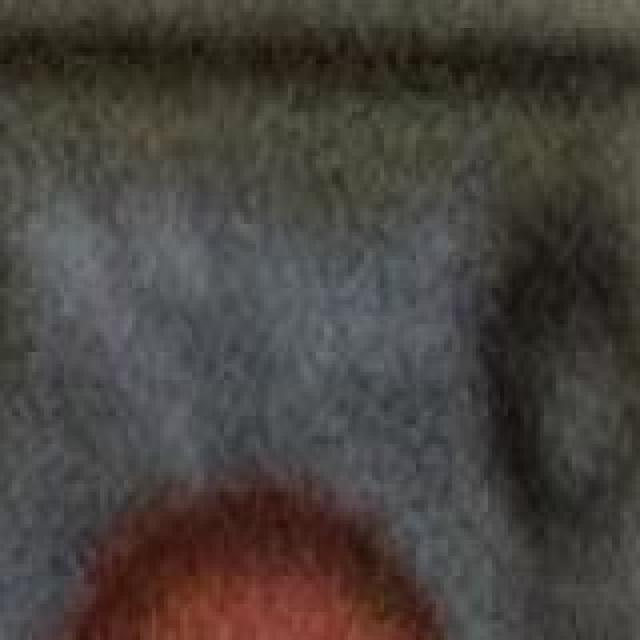switch: (0, 8, 640, 640)
